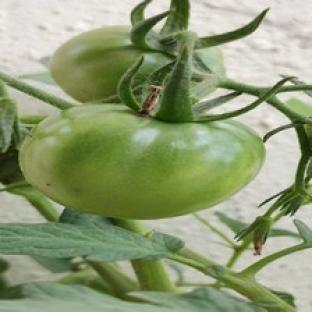Tomato: (20, 105, 264, 218), (51, 27, 172, 103)
